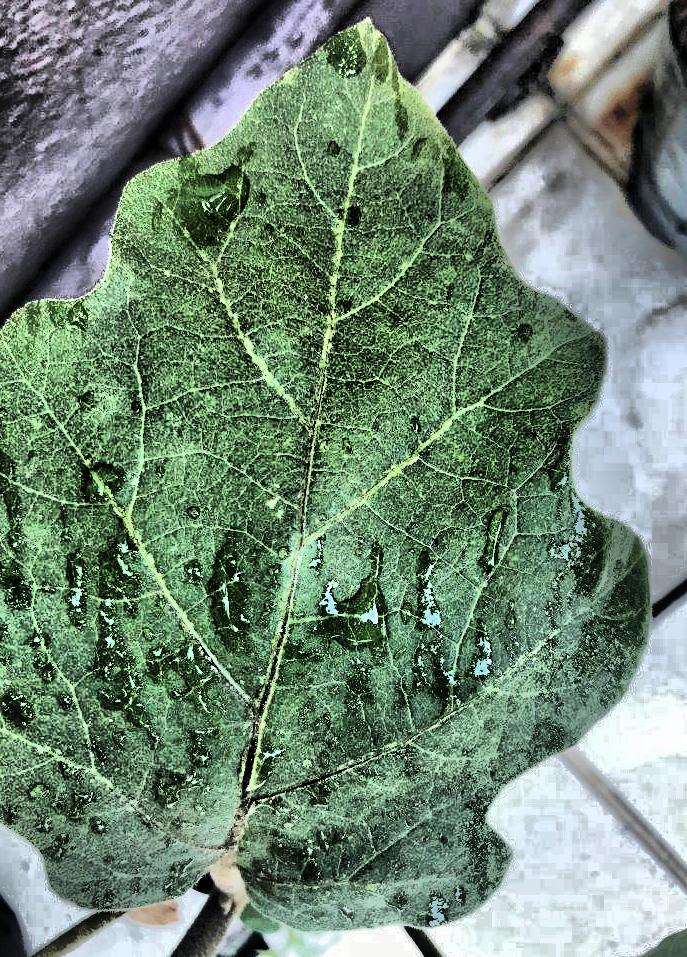HEALTHY: (23, 0, 687, 718)
